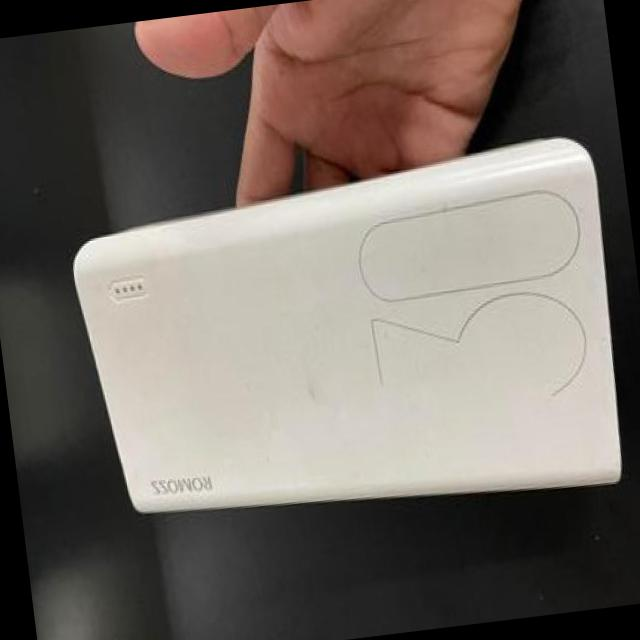portable-charger: (55, 118, 640, 552)
